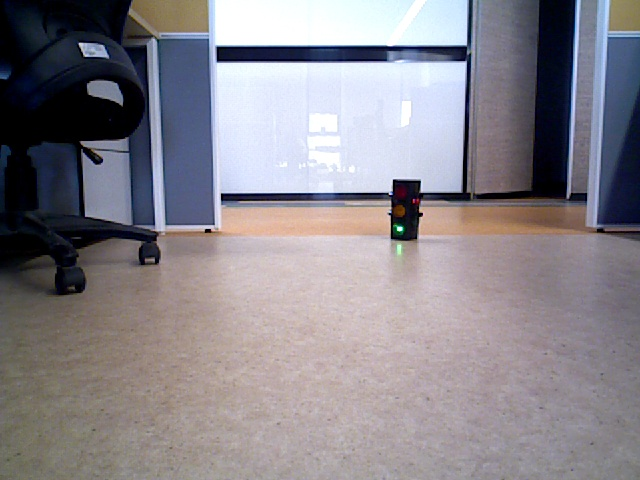green: (393, 181, 417, 236)
